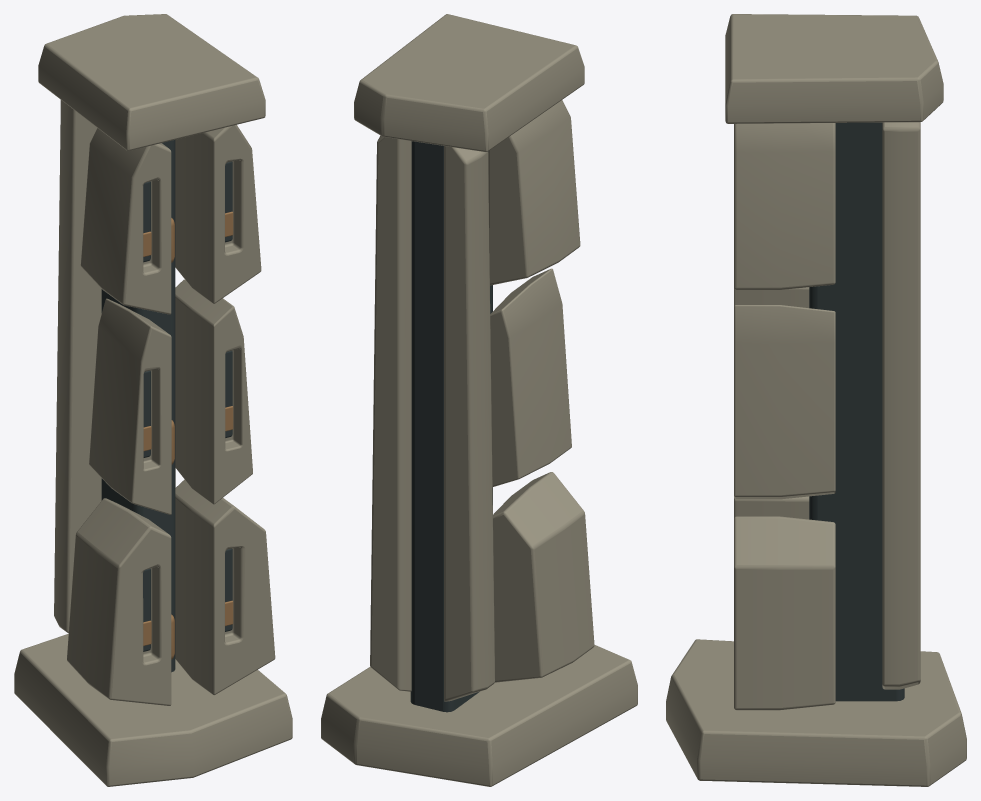
Rendered from threshold_jamb_lod0.glb.
The picture shows the model from 3 angles, left to right: view 1: azimuth 30°, elevation 25°; view 2: azimuth 150°, elevation 25°; view 3: azimuth 270°, elevation 25°; orthographic projection. The views are drawn at different scales.
Parts seen in each view (by area): view 1: LOD0_ancient, LOD0_substrate, LOD0_vein; view 2: LOD0_ancient, LOD0_substrate; view 3: LOD0_ancient, LOD0_substrate.
Boxes of the visible parts, <box> form: LOD0_ancient: <box>14,14,292,786</box>; LOD0_substrate: <box>101,140,232,672</box>; LOD0_vein: <box>143,211,233,659</box>; LOD0_ancient: <box>321,14,637,786</box>; LOD0_substrate: <box>410,141,492,712</box>; LOD0_ancient: <box>666,14,966,786</box>; LOD0_substrate: <box>809,122,904,701</box>.
Bounding box in the file's own units: 1.16 × 3.6 × 1.42.
